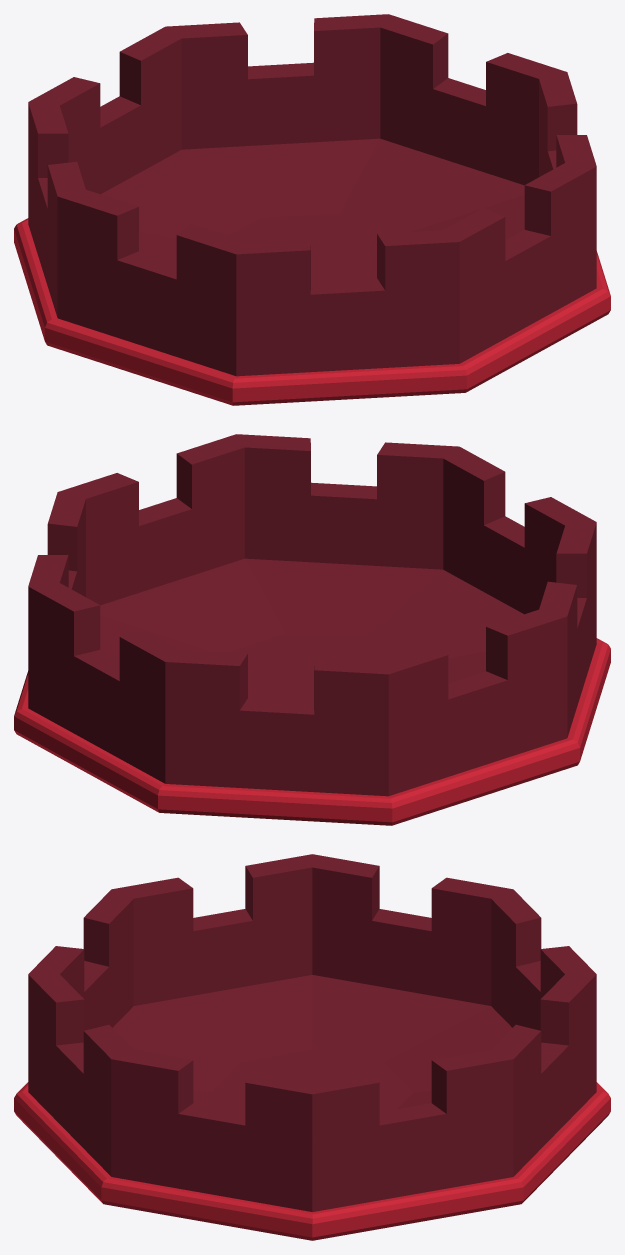
The model's file is Tower_TOP.fbx.
3 renders of one model, top to bottom at view 1: azimuth 30°, elevation 25°; view 2: azimuth 150°, elevation 25°; view 3: azimuth 270°, elevation 25°, orthographic. The views are drawn at different scales.
Visible parts, largest first — view 1: tower_top_001_msh; view 2: tower_top_001_msh; view 3: tower_top_001_msh.
Part boxes in pixels (box(x1,y1,x2,y2)): tower_top_001_msh: box(14, 14, 610, 405); tower_top_001_msh: box(14, 434, 610, 825); tower_top_001_msh: box(14, 854, 610, 1240).
Size of the model in its own units: 378 by 100 by 378.
